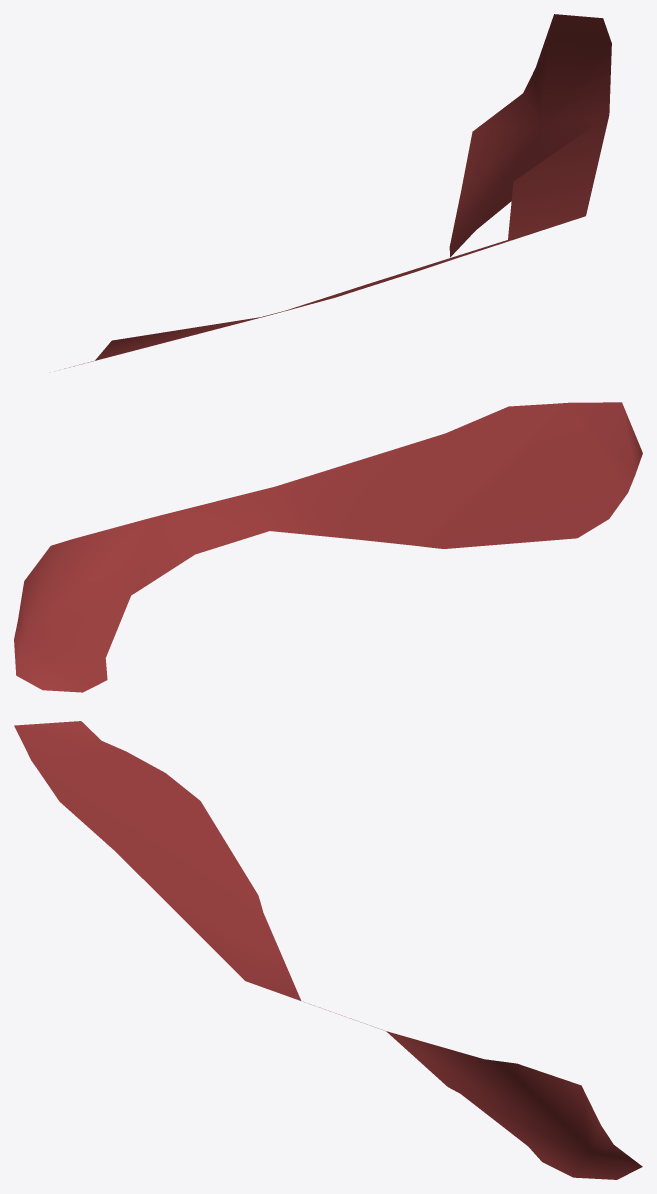
The model's file is abductor-hallucis-ol.glb.
3 views of the same model, one above another, from view 1: azimuth 30°, elevation 25°; view 2: azimuth 150°, elevation 25°; view 3: azimuth 270°, elevation 25° (orthographic). The views are drawn at different scales.
Visible parts, largest first — view 1: Abductor hallucis.ol; view 2: Abductor hallucis.ol; view 3: Abductor hallucis.ol.
Boxes of the visible parts, x1,y1,x2,y2 form: Abductor hallucis.ol: [59, 14, 611, 370]; Abductor hallucis.ol: [14, 402, 642, 692]; Abductor hallucis.ol: [14, 721, 642, 1179].
Bounding box in the file's own units: 0.0166 × 0.00767 × 0.017.
